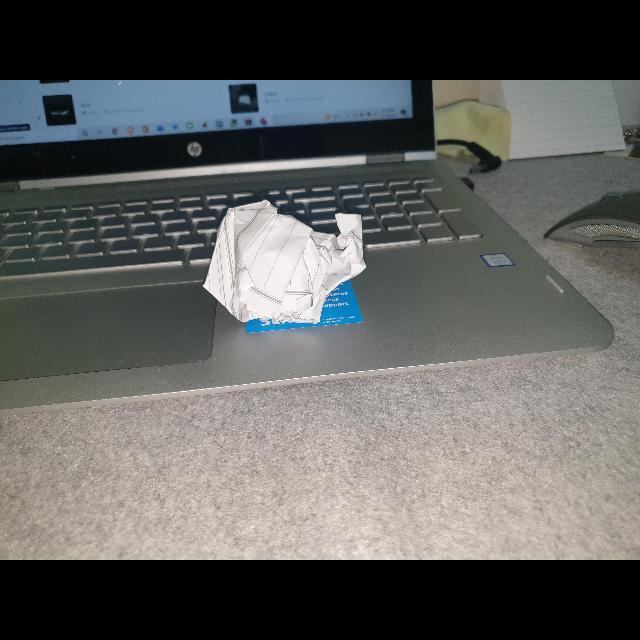scrap_paper: (195, 194, 378, 328)
